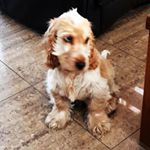puppy: (39, 5, 122, 143)
